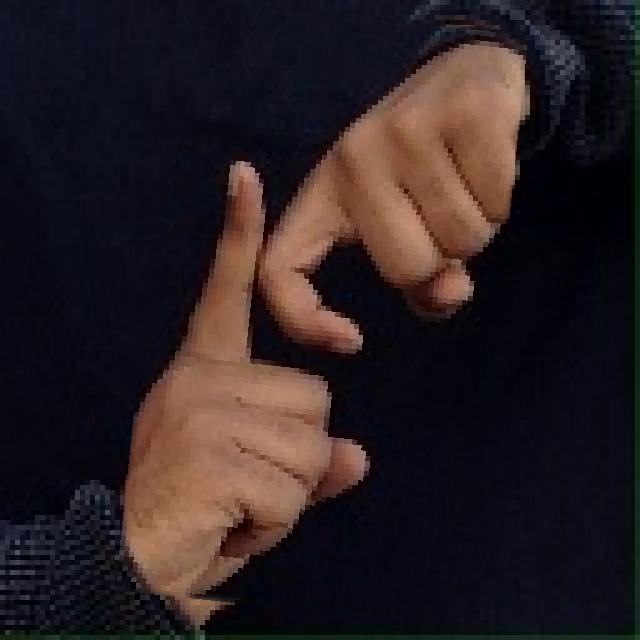K: (130, 4, 513, 618)
